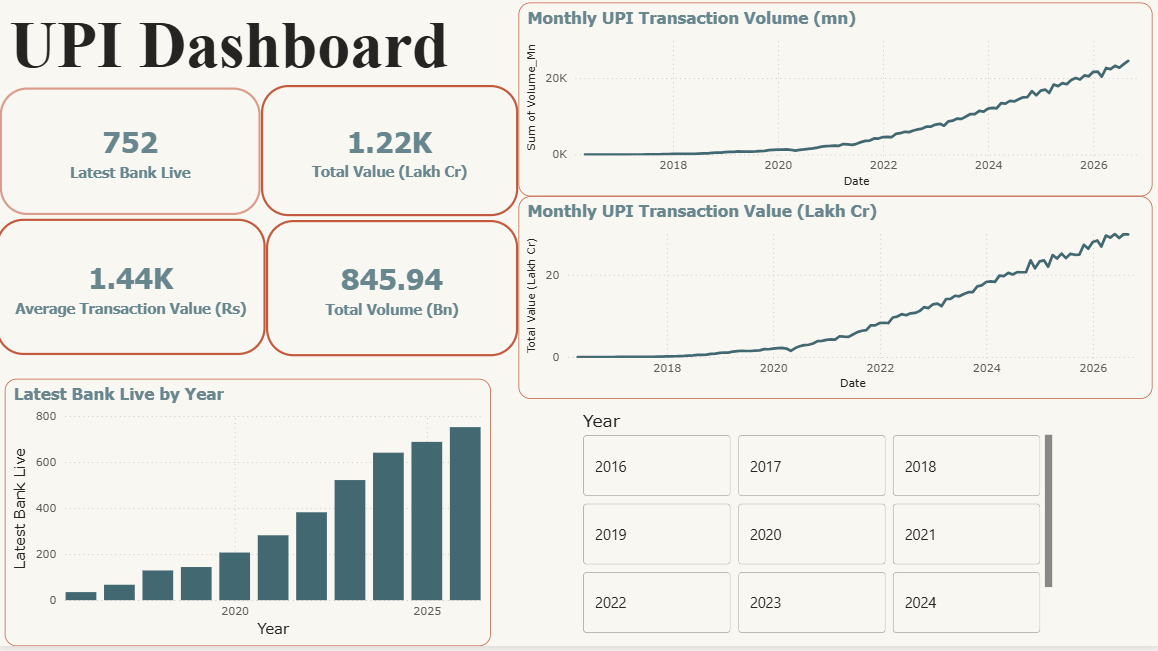

What the dashboard file says about the page in this screenshot:
{"tool":"powerbi","page":{"name":"UPI Dashboard","canvas":[1280,720],"ordinal":0},"visuals":[{"type":"textbox","box":[9.6,13.7,573.6,93.3],"z":0},{"type":"card","fields":{"Values":["upi_monthly_stats csv.Latest Bank Live"]},"box":[4.1,107,286.8,140],"z":1000},{"type":"card","fields":{"Values":["upi_monthly_stats csv.Total Value (Lakh Cr)"]},"box":[290.9,104.3,282.7,144.1],"z":2000},{"type":"card","fields":{"Values":["upi_monthly_stats csv.Total Volume (Bn)"]},"box":[296.4,252.5,277.2,149.6],"z":3000},{"type":"card","fields":{"Values":["upi_monthly_stats csv.Average Transaction values (Rs)"]},"box":[0,251.1,296.4,149.6],"z":4000},{"type":"lineChart","title":"Monthly UPI Transaction Volume (mn)","fields":{"Y":["Sum(upi_monthly_stats csv.Volume_Mn)"],"Category":["upi_monthly_stats csv.Date"]},"box":[573.6,13.7,695.7,212.7],"z":5000},{"type":"lineChart","title":"Monthly UPI Transaction Value (Lakh Cr) ","fields":{"Y":["upi_monthly_stats csv.Total Value (Lakh Cr)"],"Category":["upi_monthly_stats csv.Date"]},"box":[573.6,226.4,695.7,222.3],"z":6000},{"type":"clusteredColumnChart","fields":{"Category":["upi_monthly_stats csv.Date.Variation.Date Hierarchy.Year"],"Y":["upi_monthly_stats csv.Latest Bank Live"]},"box":[9.6,426.8,533.8,293.7],"z":7000},{"type":"advancedSlicerVisual","fields":{"Values":["upi_monthly_stats csv.Date.Variation.Date Hierarchy.Year"]},"box":[639.5,461.1,525.6,249.7],"z":8000}]}

Visuals, with their boxes in screenshot pixels (x1, y1, x2, y2), scaled from the page's 1280x720 canvas onto the 1158x651 screenshot:
textbox: bbox(9, 12, 528, 97)
card - upi_monthly_stats csv.Latest Bank Live: bbox(4, 97, 263, 223)
card - upi_monthly_stats csv.Total Value (Lakh Cr): bbox(263, 94, 519, 225)
card - upi_monthly_stats csv.Total Volume (Bn): bbox(268, 228, 519, 364)
card - upi_monthly_stats csv.Average Transaction values (Rs): bbox(0, 227, 268, 362)
"Monthly UPI Transaction Volume (mn)" lineChart: bbox(519, 12, 1148, 205)
"Monthly UPI Transaction Value (Lakh Cr) " lineChart: bbox(519, 205, 1148, 406)
clusteredColumnChart - upi_monthly_stats csv.Date.Variation.Date Hierarchy.Year x upi_monthly_stats csv.Latest Bank Live: bbox(9, 386, 492, 650)
advancedSlicerVisual - upi_monthly_stats csv.Date.Variation.Date Hierarchy.Year: bbox(579, 417, 1054, 643)
